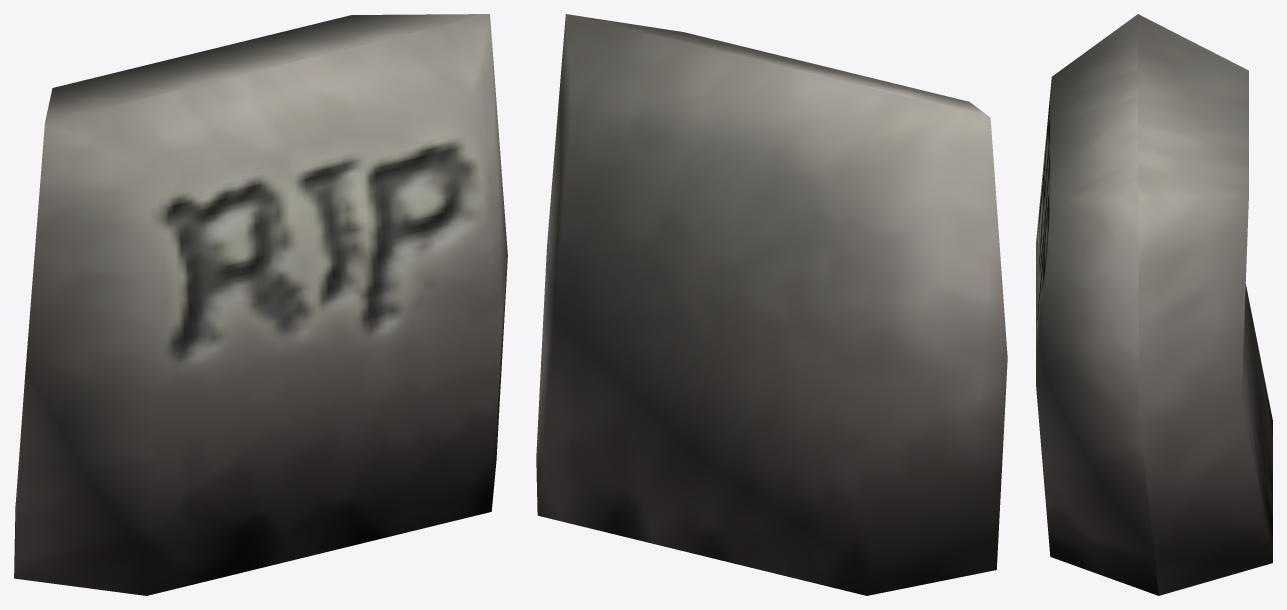
Rendered from grave_stone_rip.DAE.
The picture shows the model from 3 angles, left to right: view 1: azimuth 30°, elevation 25°; view 2: azimuth 150°, elevation 25°; view 3: azimuth 270°, elevation 25°; orthographic projection. The views are drawn at different scales.
Visible parts, largest first — view 1: Box01; view 2: Box01; view 3: Box01.
Part boxes in pixels (<box>): Box01: <box>14,14,507,595</box>; Box01: <box>536,14,1007,595</box>; Box01: <box>1036,14,1272,595</box>.
Size of the model in its own units: 1.45 by 1.32 by 0.7247.
